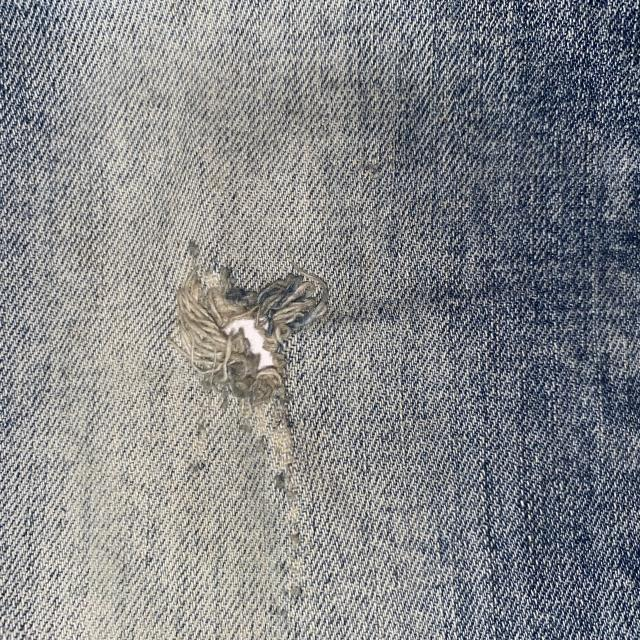Hole: (166, 261, 332, 408)
